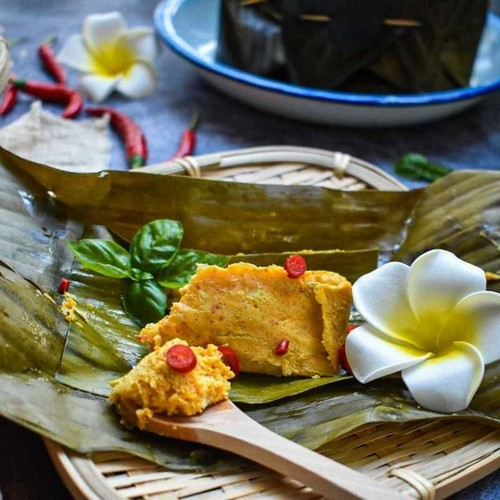tum ayam: (149, 262, 356, 374), (119, 342, 236, 416)
